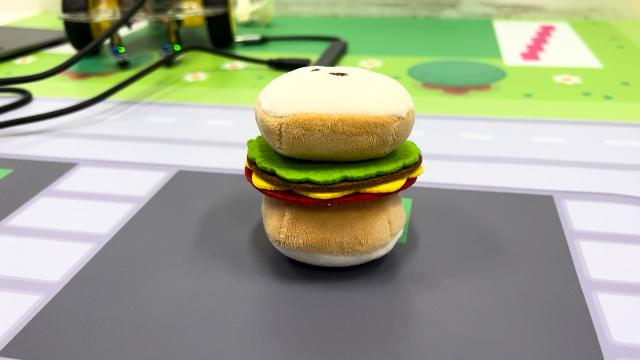sandwich: (242, 63, 426, 270)
